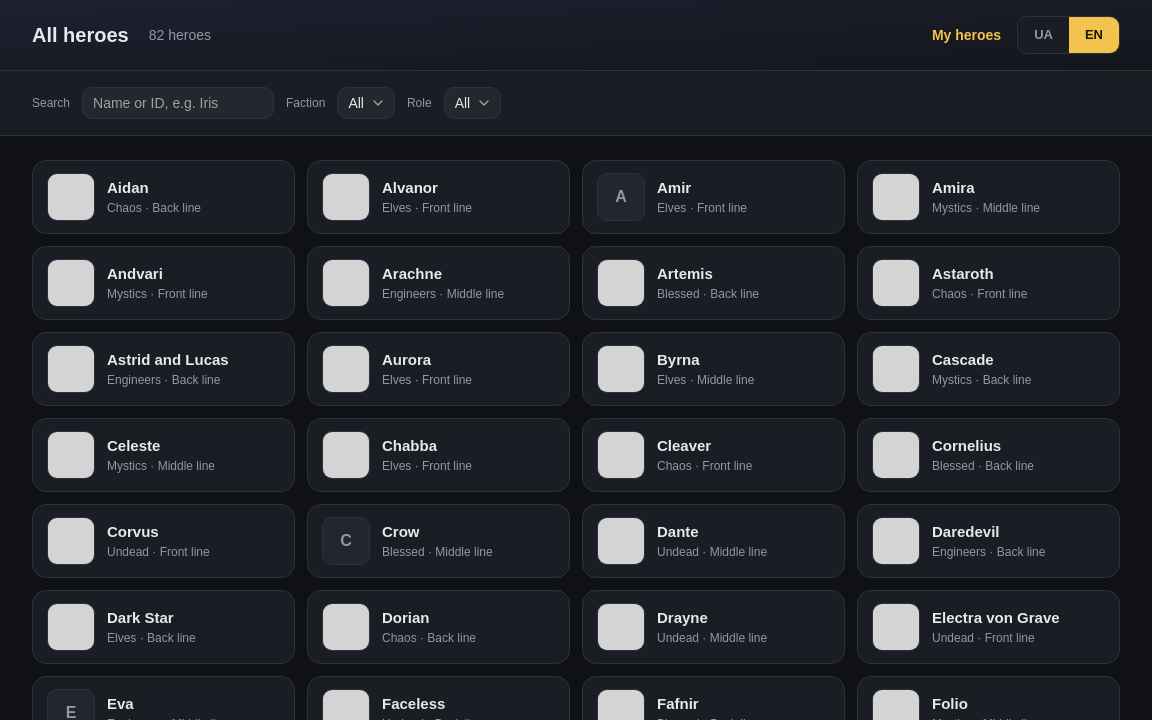
Test: search narrows the list and a card opens the hero page
In the field: [178, 102] box top-left (82, 86), bottom-right (274, 118), type "Iris"
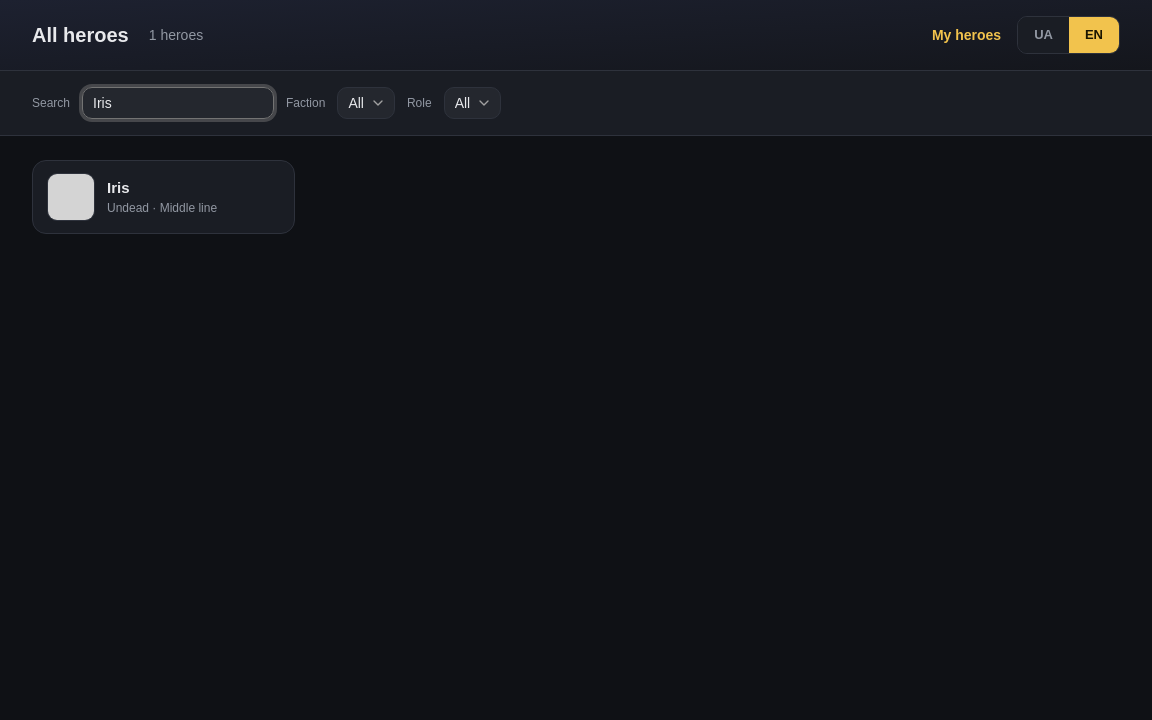
Expected: the number of list items is 1, top-left (32, 160), bottom-right (295, 234)
Click the link "Iris": [118, 188] box top-left (107, 179), bottom-right (130, 196)
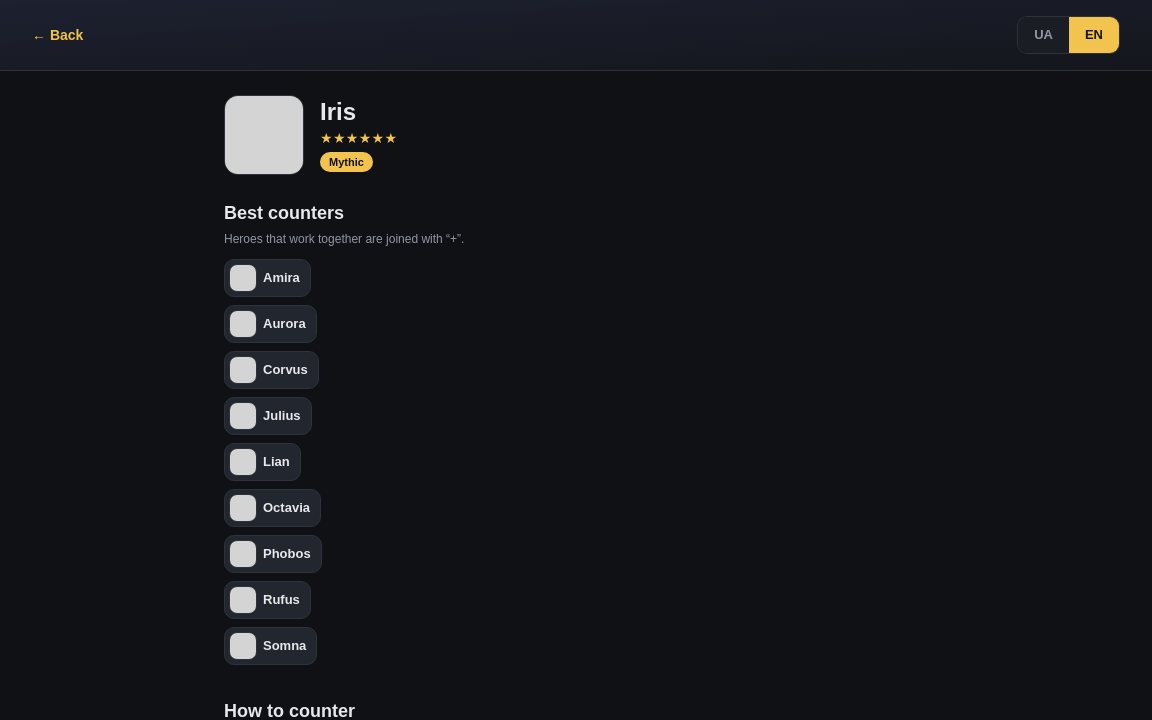
Expected: the heading "Iris" is shown, top-left (320, 98), bottom-right (356, 125)
Expected: the heading "Best counters" is shown, top-left (224, 202), bottom-right (344, 222)
